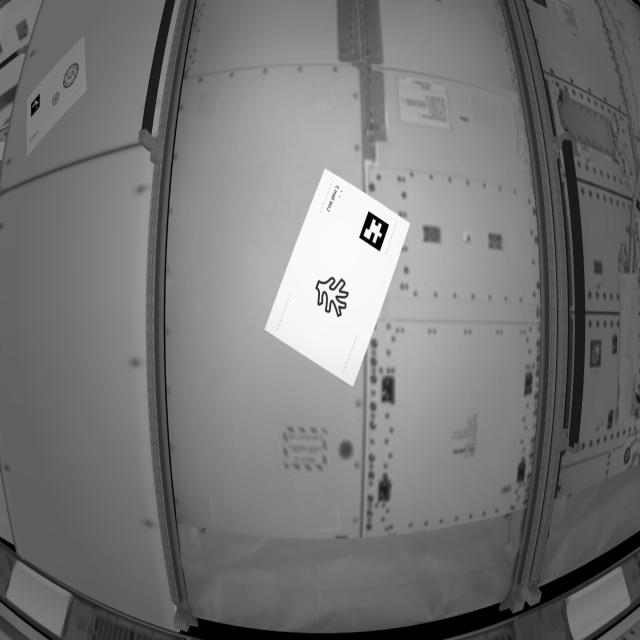coral: (310, 265, 354, 326)
